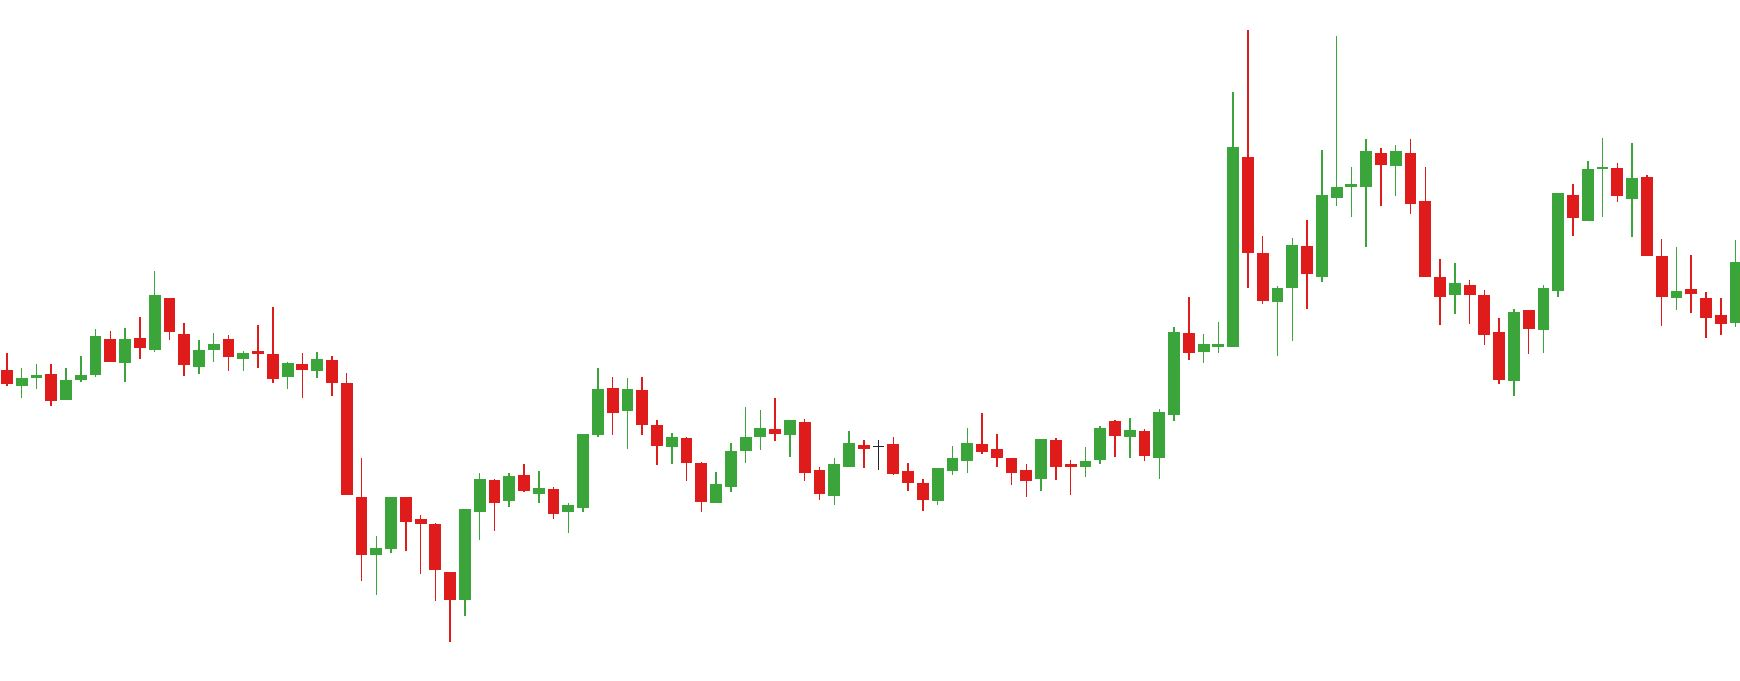buy: (368, 529, 471, 642), (813, 451, 945, 521)
